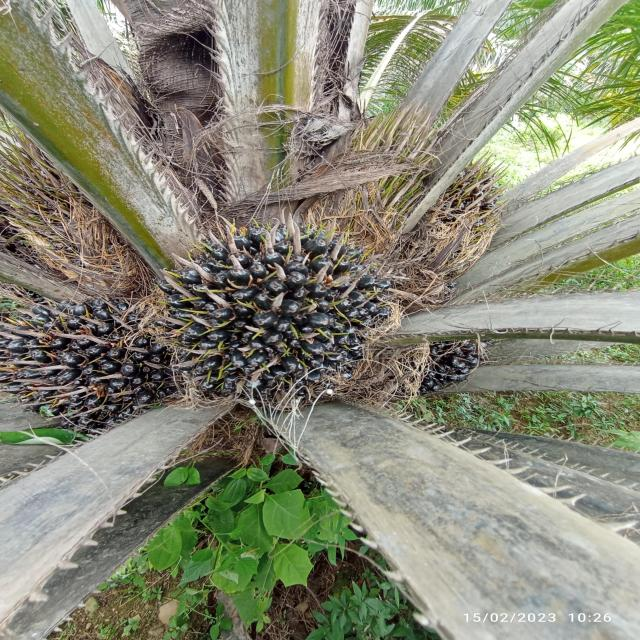fraksi 00: (141, 205, 392, 415), (0, 274, 182, 439)
